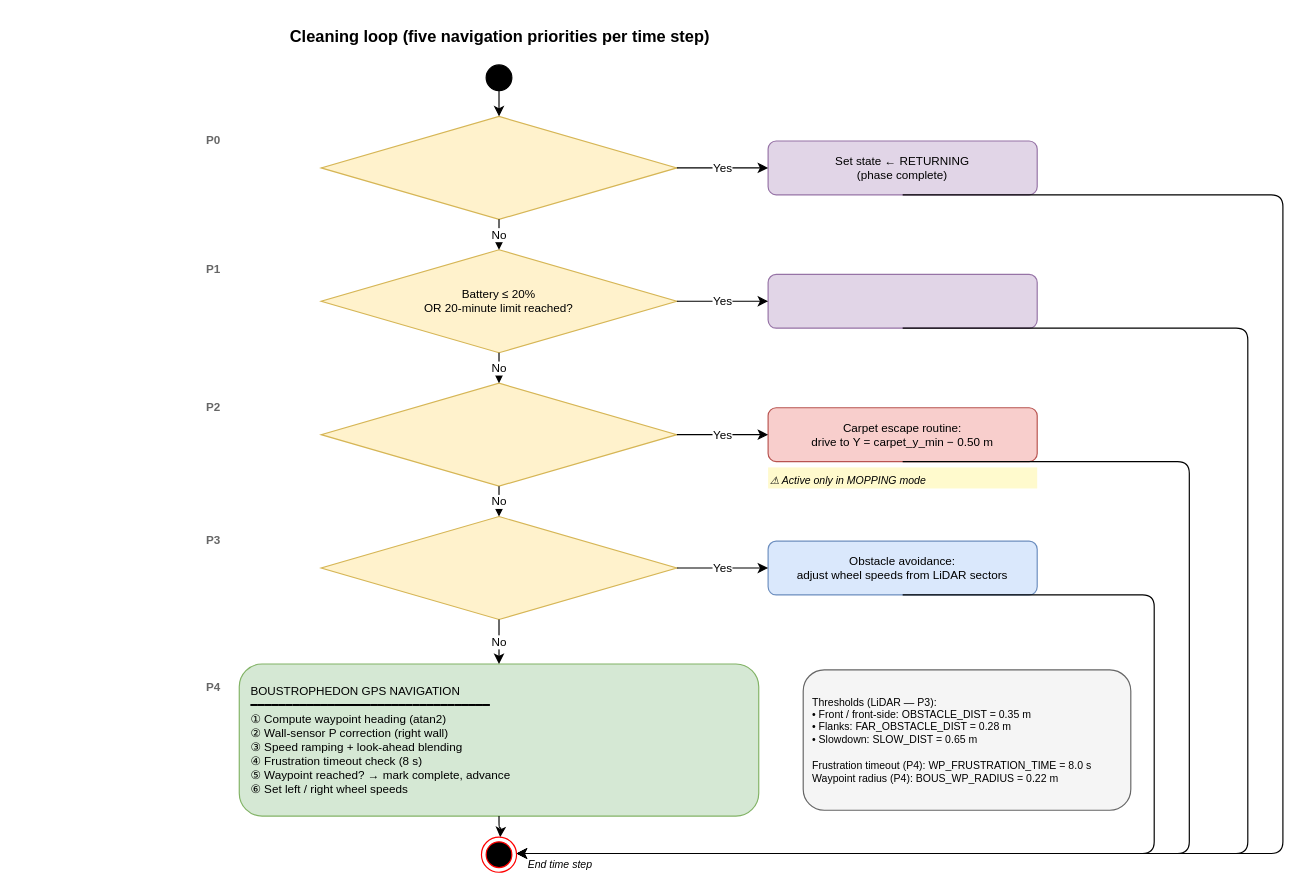
This 1313x894 diagram has some shape labels left out. The shapes that lost their labels are listed below. From the top down, each one's centre as x and y in pixels, then its label:
At (498,167): "All waypoints in the current phase processed (phase complete)?".
At (902,300): "Set state ← RETURNING (low battery / time limit)".
At (498,434): "MOPPING mode AND carpet sensor active / robot on carpet?".
At (498,567): "LiDAR obstacle detected? (front / front-side / flank < threshold)".
